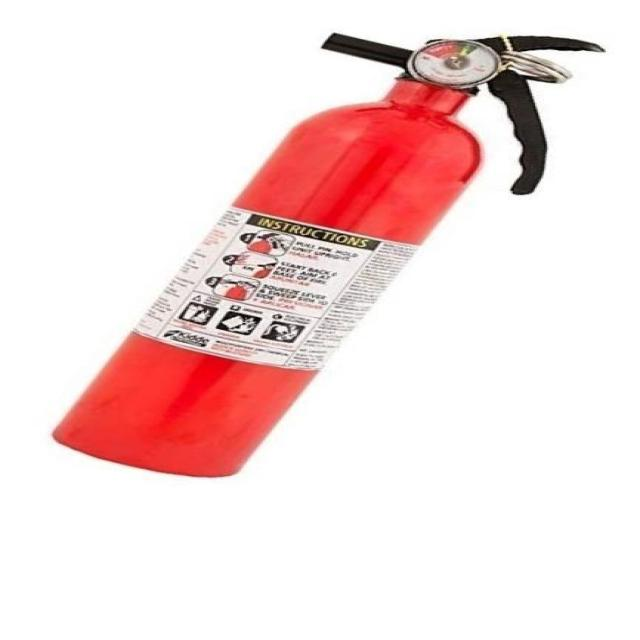fire_extinguisher: (38, 26, 612, 484)
